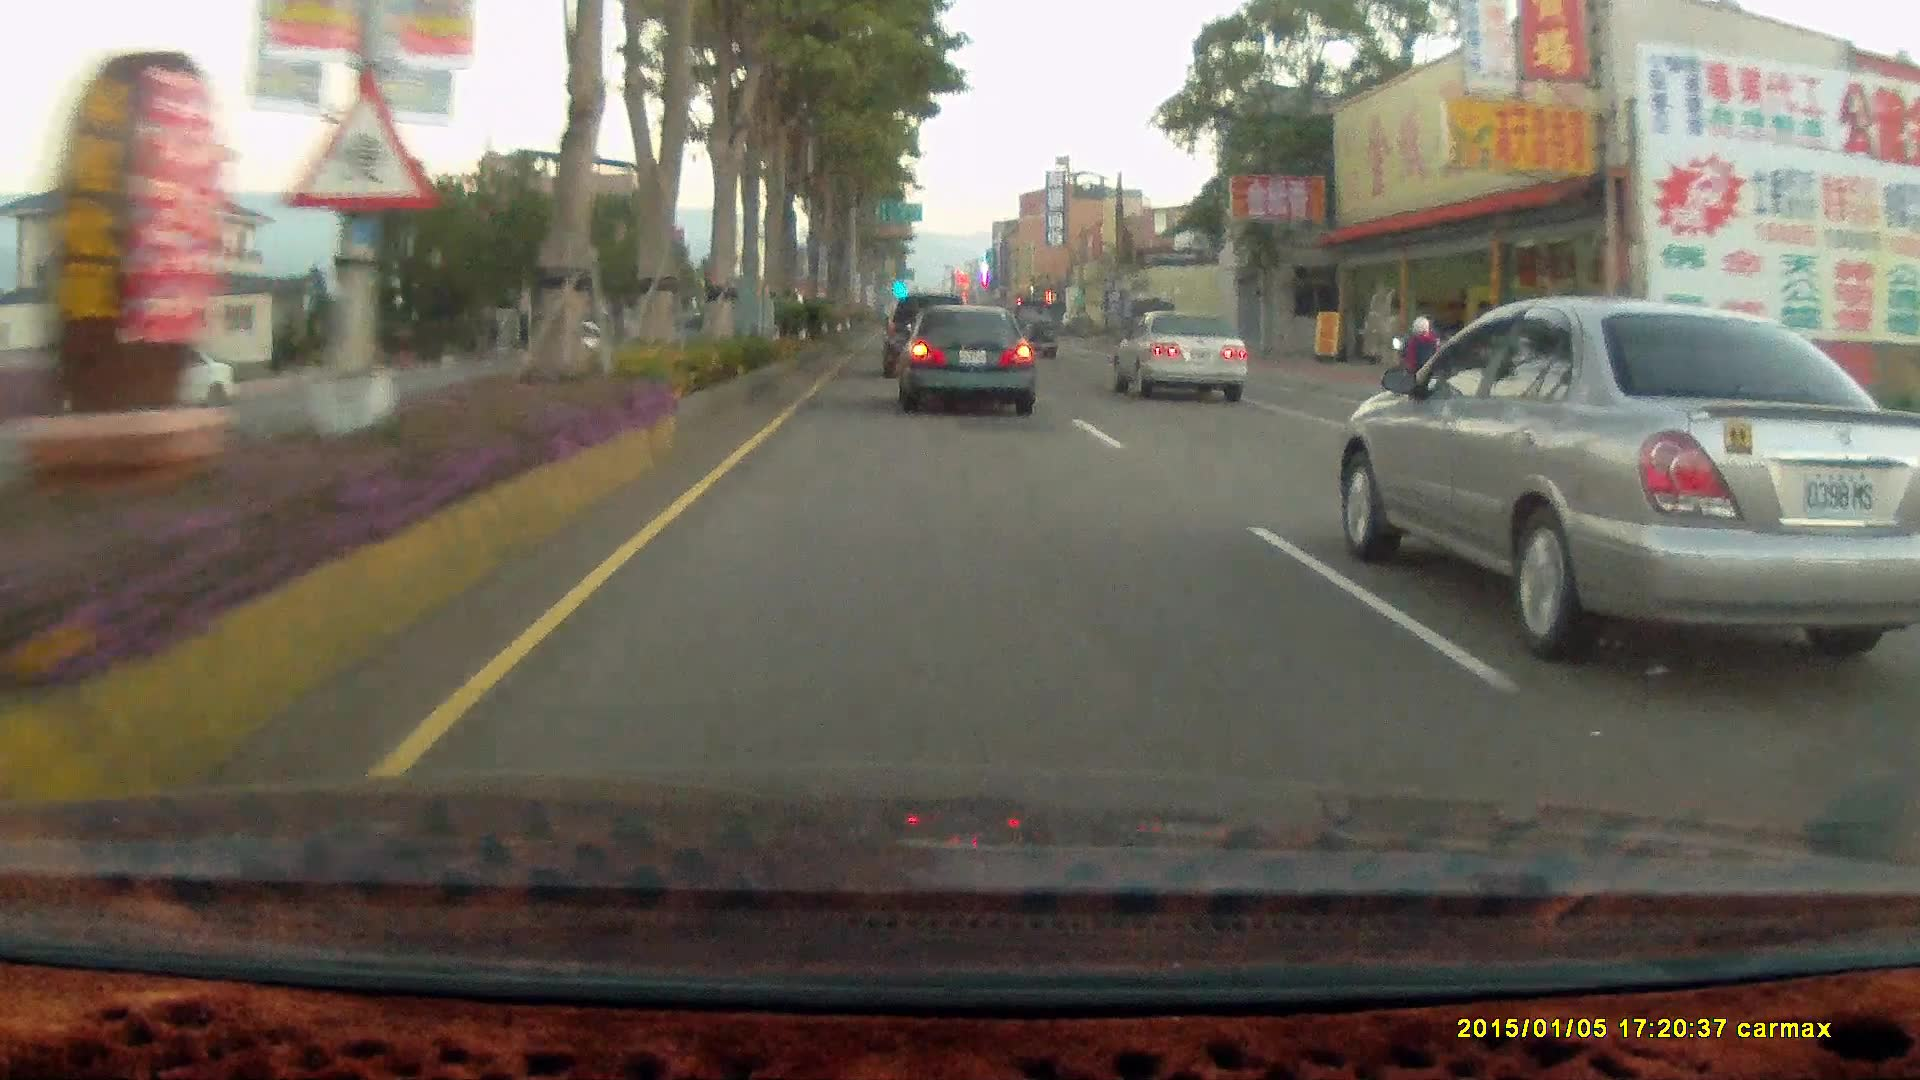rider: (1384, 311, 1454, 432), (1393, 312, 1450, 421)
vehicle: (1341, 289, 1920, 638), (896, 302, 1040, 417), (894, 302, 1036, 414), (56, 338, 233, 427), (34, 335, 224, 418), (1110, 310, 1247, 402), (1122, 302, 1256, 392), (883, 291, 973, 378), (880, 292, 963, 377), (1005, 296, 1058, 360)
